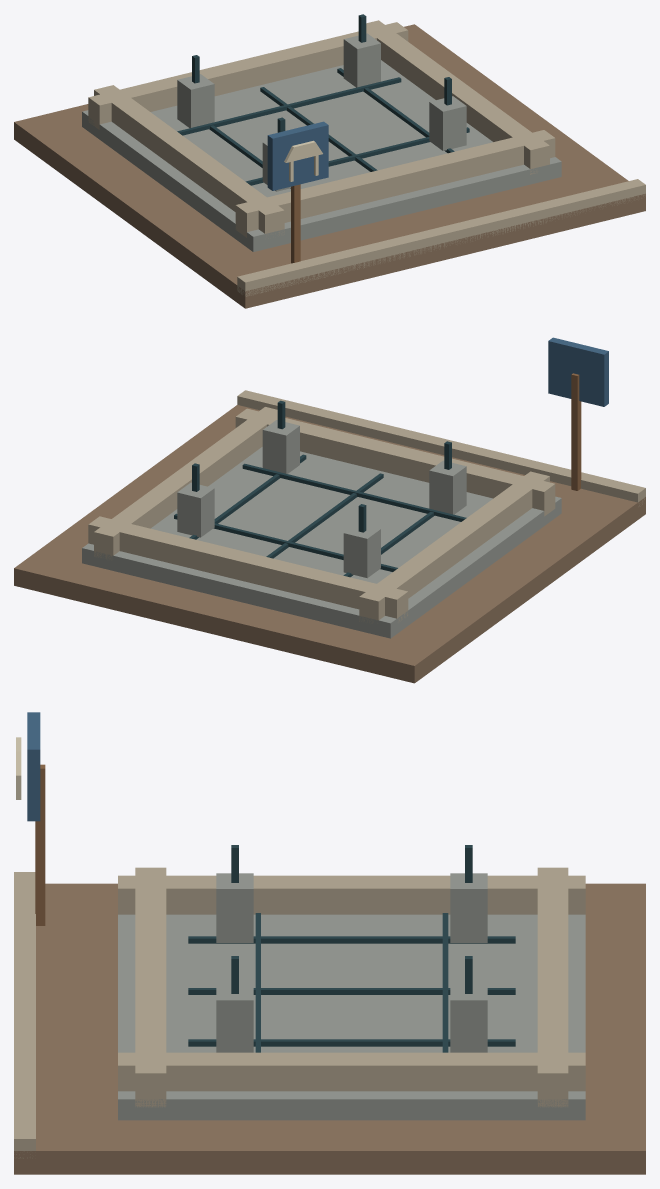
Rendered from market-seabreeze-foundation.glb.
The picture shows the model from 3 angles, top to bottom: view 1: azimuth 30°, elevation 25°; view 2: azimuth 150°, elevation 25°; view 3: azimuth 270°, elevation 25°; orthographic projection. The views are drawn at different scales.
Parts seen in each view (by area): view 1: market; view 2: market; view 3: market.
Boxes of the visible parts, <box> form: market: <box>14,14,645,308</box>; market: <box>14,337,645,683</box>; market: <box>14,712,645,1174</box>.
Bounding box in the file's own units: 2.88 × 1.09 × 2.88.
